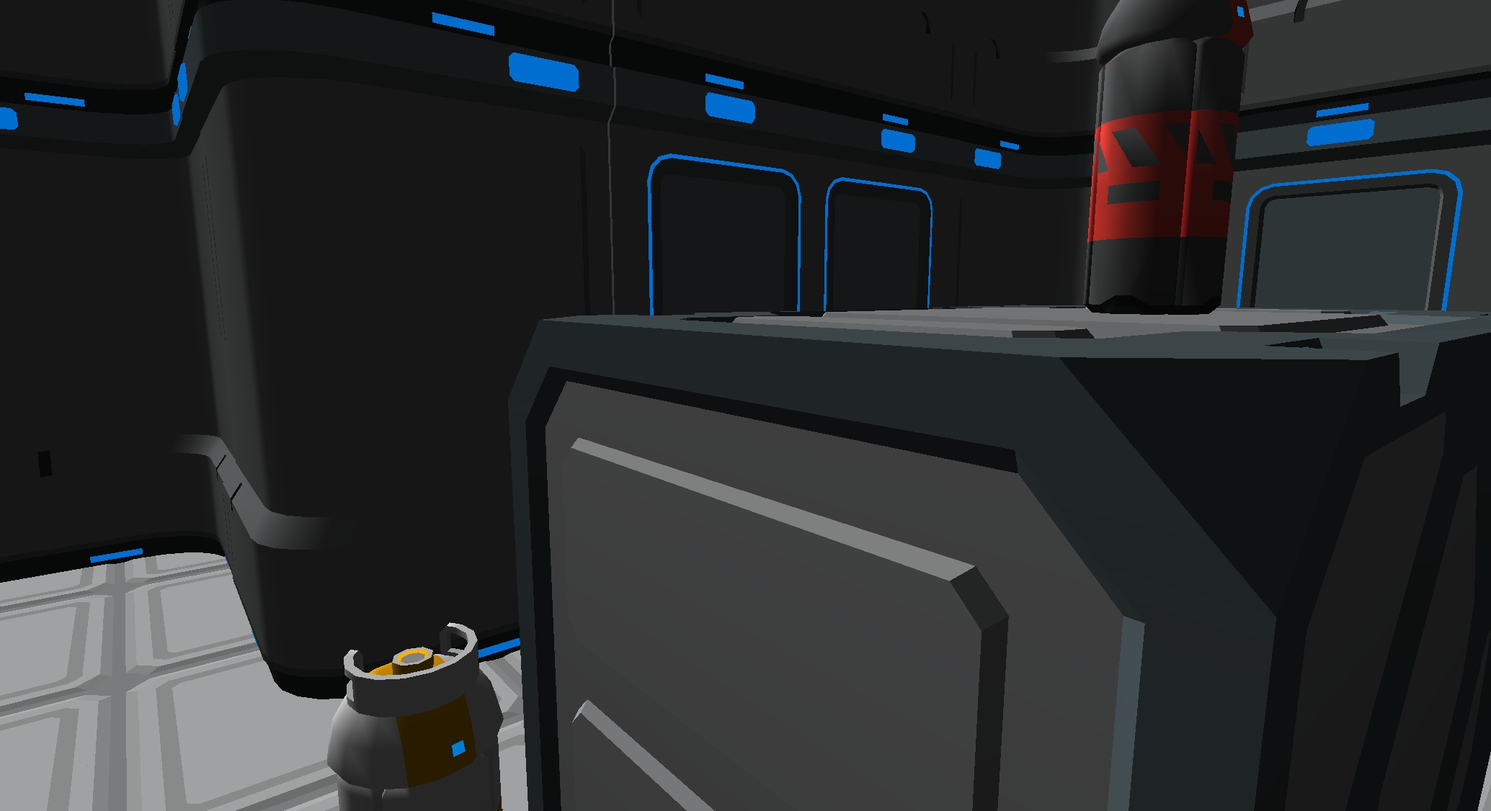red_barrel: (1087, 0, 1251, 313)
yellow_barrel: (327, 623, 502, 810)
